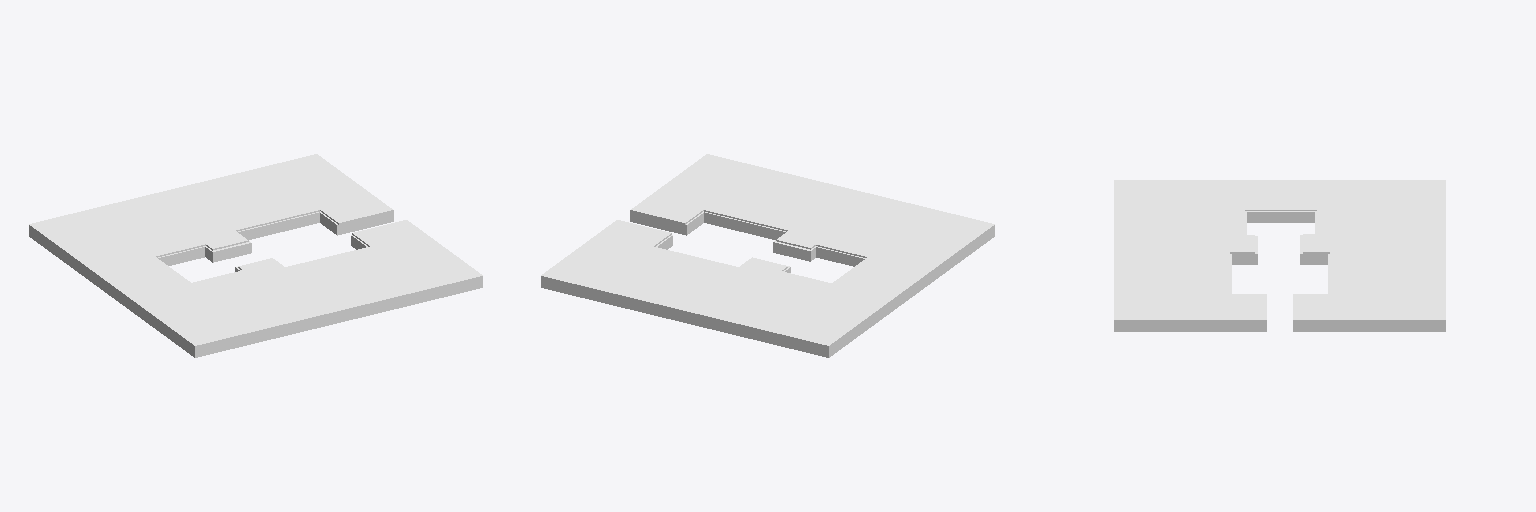
The model's file is stage1-1-0-Game2.obj.
3 views of the same model, side by side, from view 1: azimuth 30°, elevation 25°; view 2: azimuth 150°, elevation 25°; view 3: azimuth 270°, elevation 25° (orthographic).
Parts seen in each view (by area): view 1: Game2; view 2: Game2; view 3: Game2.
Part boxes in pixels (x1,y1,x2,y2): Game2: (29, 154, 482, 357); Game2: (541, 154, 994, 357); Game2: (1114, 180, 1445, 331).
Size of the model in its own units: 20 by 0.8 by 20.